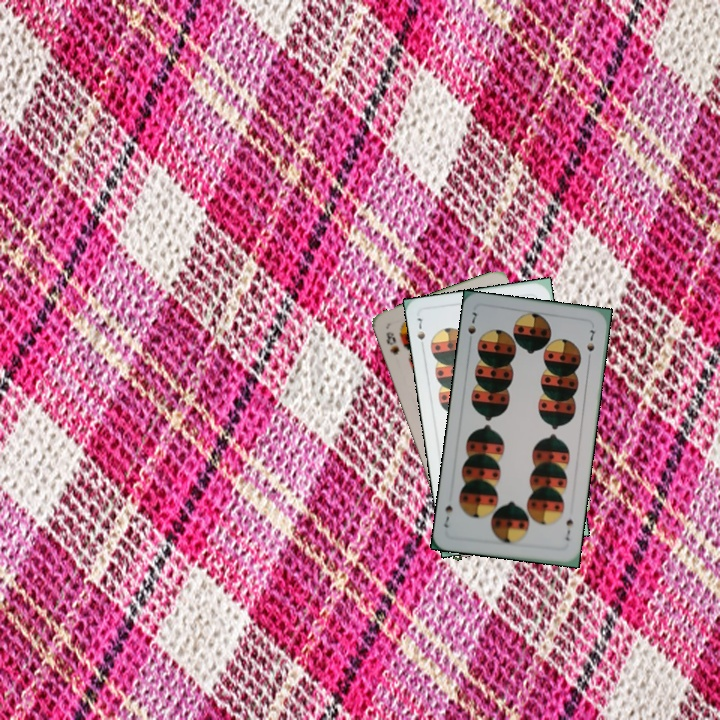S7: (464, 308, 480, 347), (413, 314, 428, 343), (561, 515, 575, 543)
S8: (382, 328, 402, 357)
